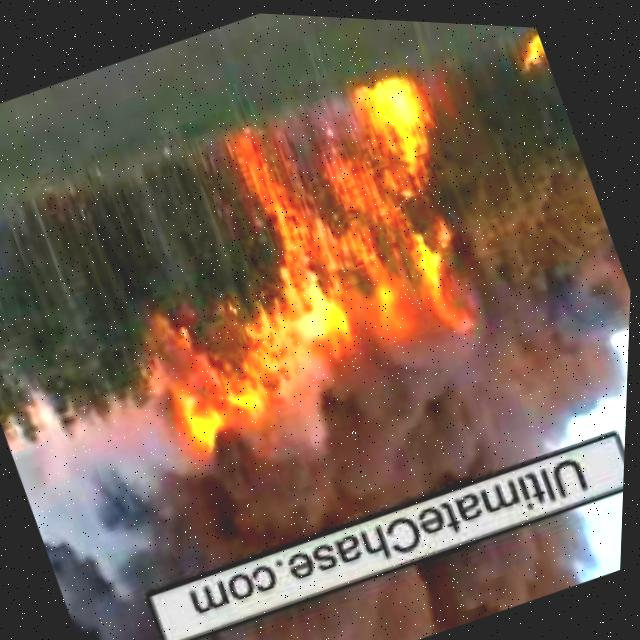Fire: (232, 56, 520, 397), (146, 309, 305, 483), (510, 21, 552, 72)
Smoke: (35, 288, 632, 637), (97, 478, 613, 640)
